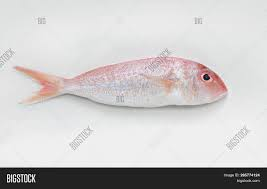Ikan Kerisi: (18, 58, 228, 108)
